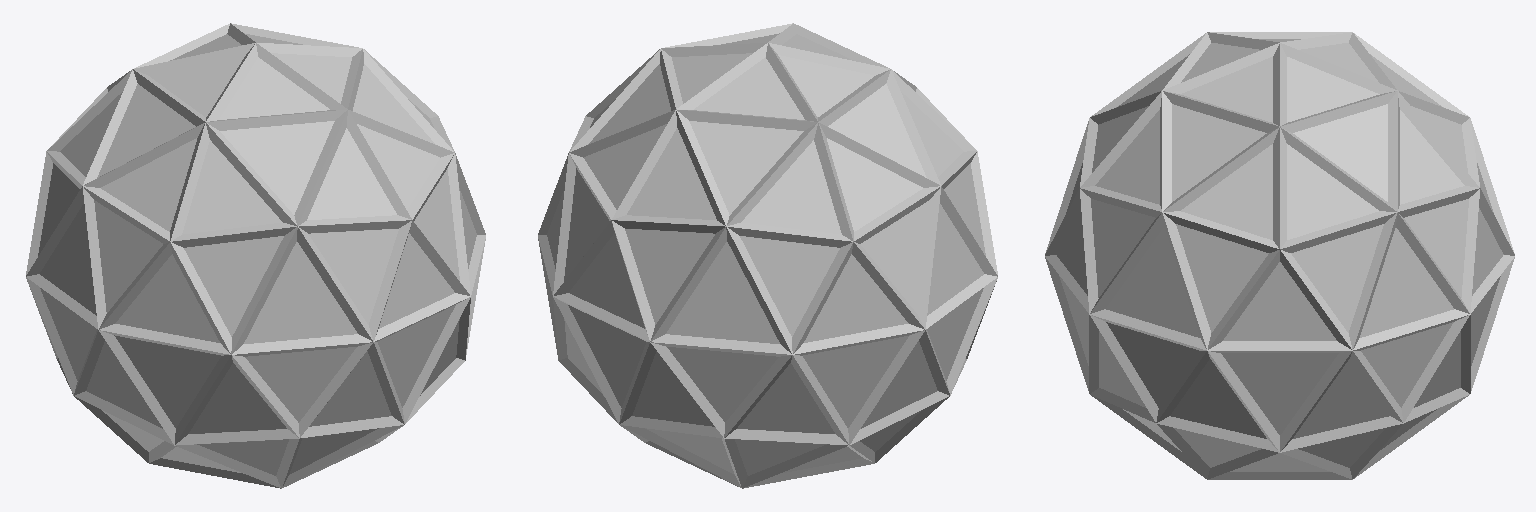
The model's file is ammo.obj.
3 renders of one model, left to right at view 1: azimuth 30°, elevation 25°; view 2: azimuth 150°, elevation 25°; view 3: azimuth 270°, elevation 25°, orthographic.
Parts seen in each view (by area): view 1: Icosphere, Icosphere.001; view 2: Icosphere, Icosphere.001; view 3: Icosphere, Icosphere.001.
Part boxes in pixels (bbox=[...]): Icosphere: bbox=[38, 33, 476, 475]; Icosphere.001: bbox=[26, 23, 485, 488]; Icosphere: bbox=[547, 33, 985, 475]; Icosphere.001: bbox=[538, 23, 997, 488]; Icosphere: bbox=[1056, 39, 1503, 471]; Icosphere.001: bbox=[1045, 32, 1514, 479].
Size of the model in its own units: 0.9796 by 1.03 by 1.03.